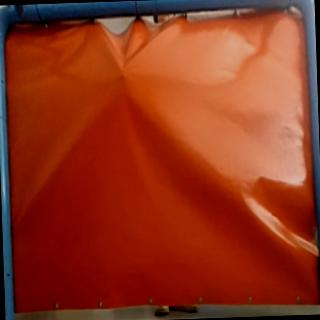Hit-hRxx: (116, 64, 130, 80)
